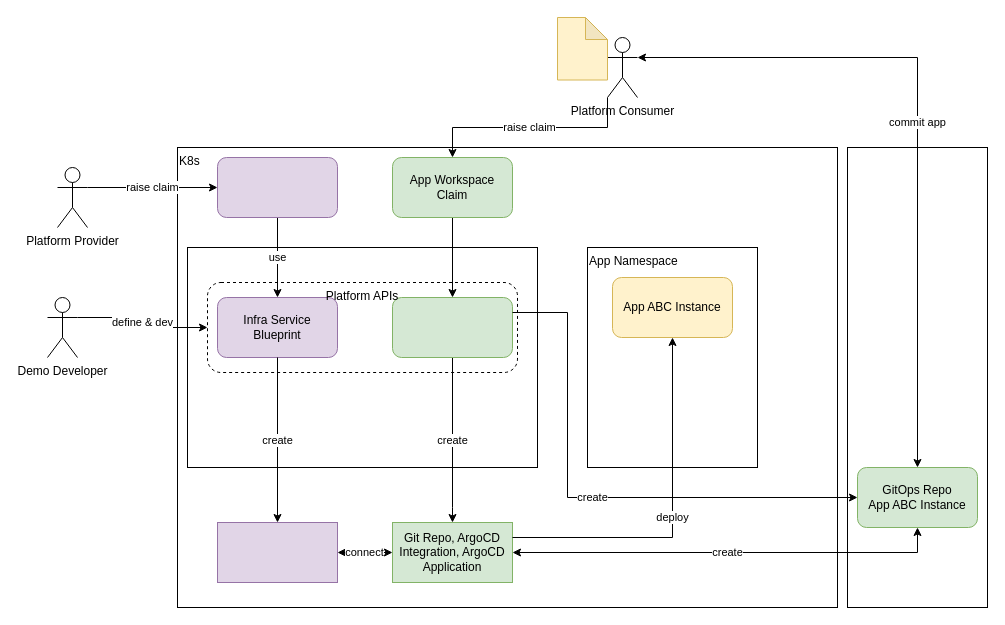
The diagram is 1005 pixels wide and 625 high, and some of its shapes have lost their labels. The shapes that lost their labels are listed below. From the top down, each one's box as (x1, y1, x2, y2) in pixels, then its label:
(556, 16, 608, 80): app code
(216, 156, 338, 218): Infra Service Claim
(392, 296, 512, 358): App Workspace Blueprint
(186, 246, 538, 468): Crossplane
(846, 146, 988, 608): GitLab
(216, 522, 338, 582): ArgoCD Installation
